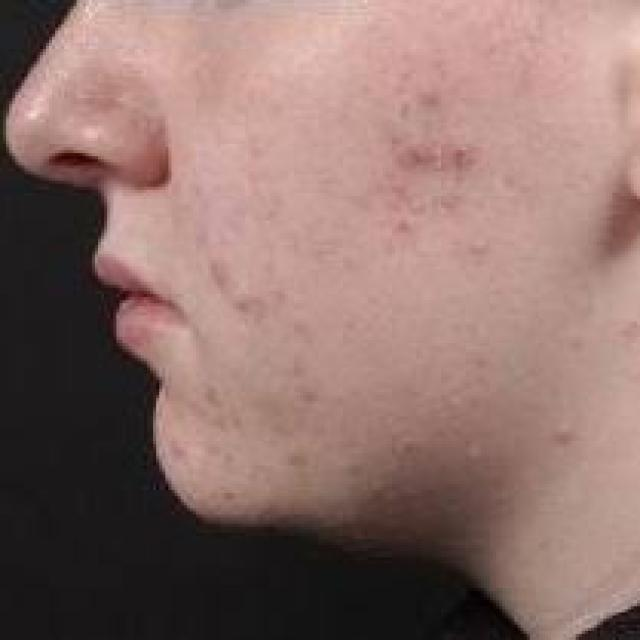Acne: (393, 138, 483, 176), (166, 434, 194, 462), (406, 192, 429, 220), (466, 236, 493, 259)
